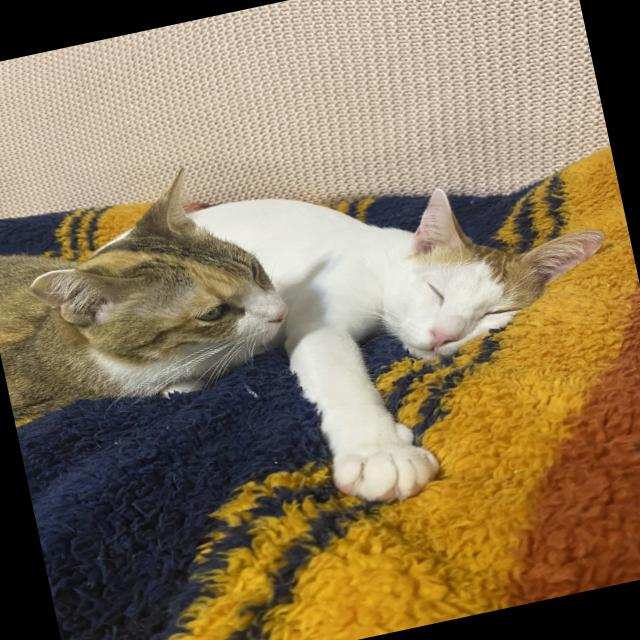cat1: (222, 113, 640, 521)
cat2: (0, 149, 300, 427)
